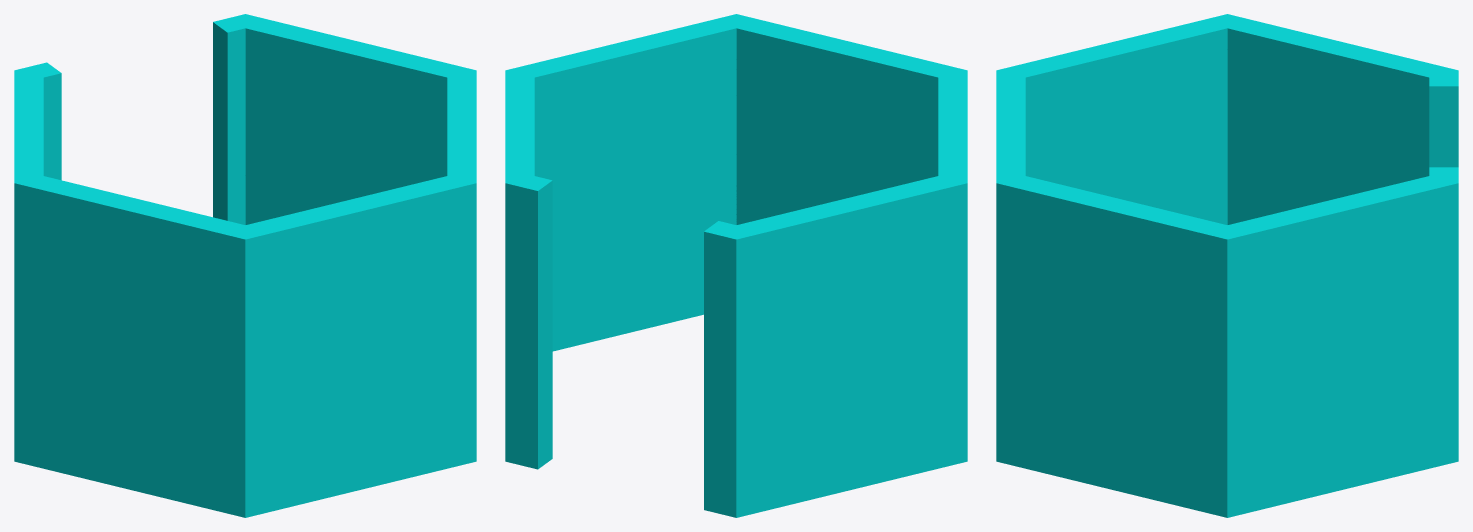
File: SM_Bld_Wall_Tower_03_Collision.fbx
The picture shows the model from 3 angles, left to right: view 1: azimuth 30°, elevation 25°; view 2: azimuth 150°, elevation 25°; view 3: azimuth 270°, elevation 25°; orthographic projection.
Visible parts, largest first — view 1: SM_Bld_Wall_Tower_03_Collision; view 2: SM_Bld_Wall_Tower_03_Collision; view 3: SM_Bld_Wall_Tower_03_Collision.
Part boxes in pixels (x1,y1,x2,y2): SM_Bld_Wall_Tower_03_Collision: (14,14,476,517); SM_Bld_Wall_Tower_03_Collision: (505,14,967,517); SM_Bld_Wall_Tower_03_Collision: (996,14,1458,517).
Bounding box in the file's own units: 536 × 309 × 464.
